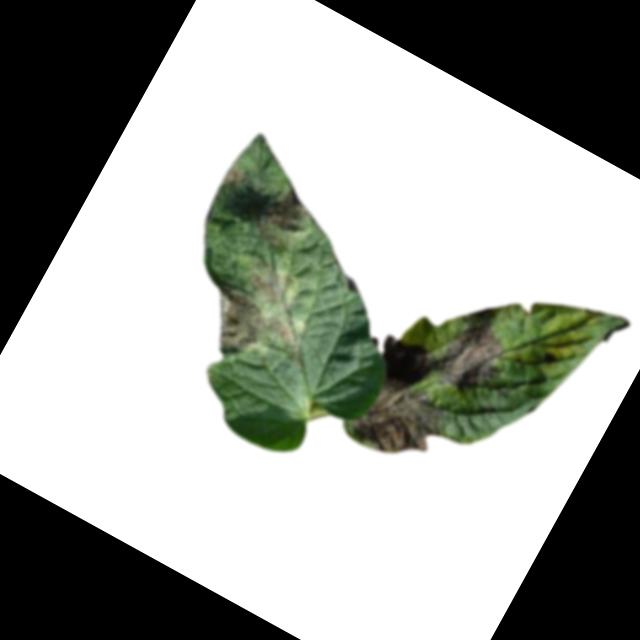Late_blight: (333, 328, 469, 474), (192, 280, 304, 381), (430, 316, 513, 404), (238, 254, 302, 313), (262, 182, 319, 241), (220, 161, 252, 194)
